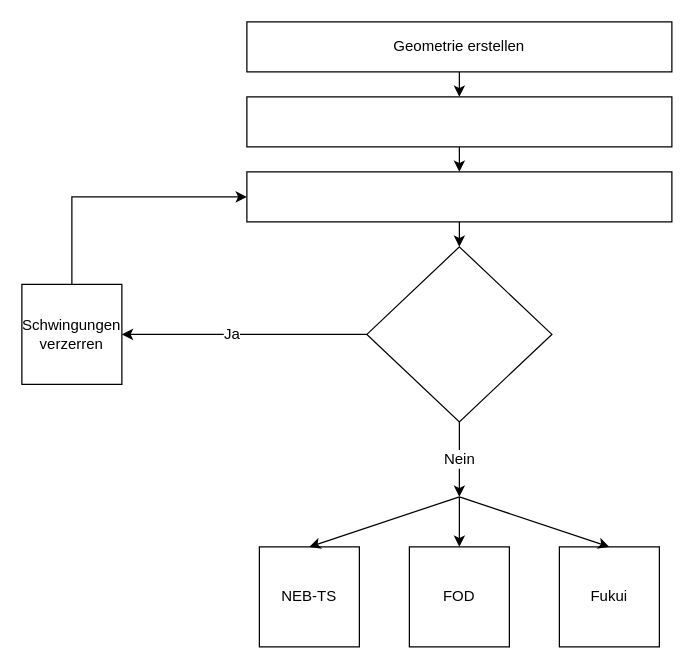
Some shapes in this 694 by 669 pixel diagram are drawn without their labels. Here are the shapes that lost their labels. From the top down, the centre of each, then its label:
At [459,121]: "Geometrie optimieren".
At [459,196]: "Geometrie optimieren + Thermorechnung".
At [459,334]: "Sind negative Schwingungen vorhanden?".
